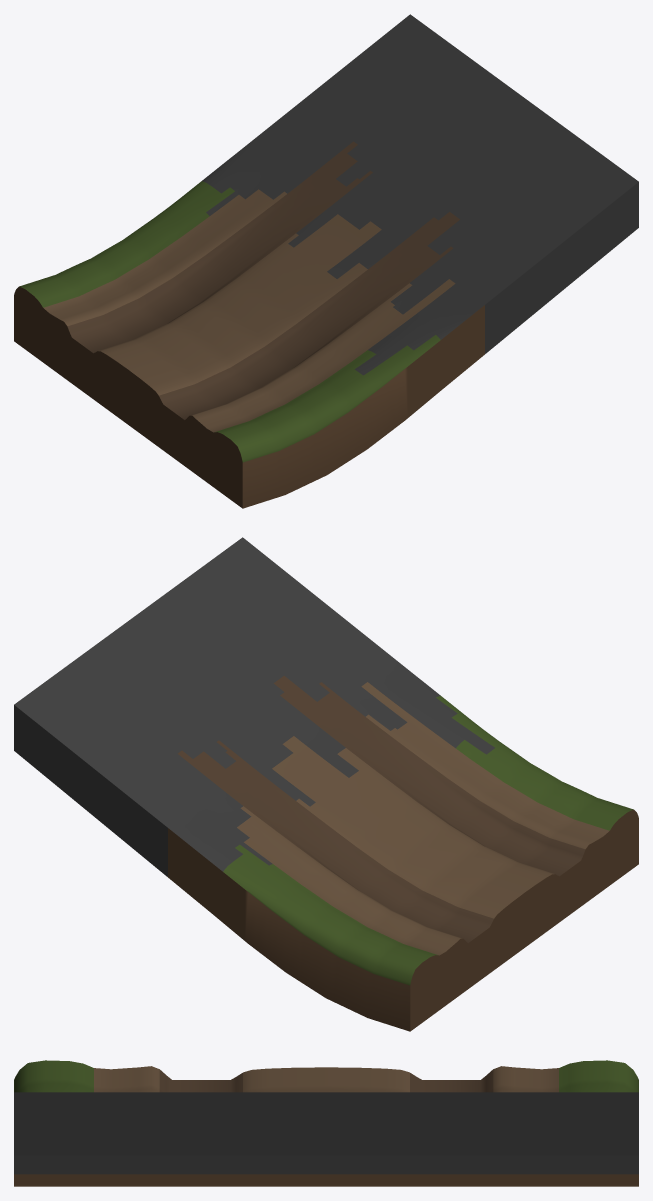
3 views of the same model, one above another, from view 1: azimuth 30°, elevation 25°; view 2: azimuth 150°, elevation 25°; view 3: azimuth 270°, elevation 25° (orthographic). The views are drawn at different scales.
Visible parts, largest first — view 1: d2t; view 2: d2t; view 3: d2t.
Boxes of the visible parts, box(x1,y1,x2,y2) form: d2t: box(14, 14, 638, 508); d2t: box(14, 537, 638, 1031); d2t: box(14, 1060, 638, 1186).
Bounding box in the file's own units: 9 × 5 × 9.
